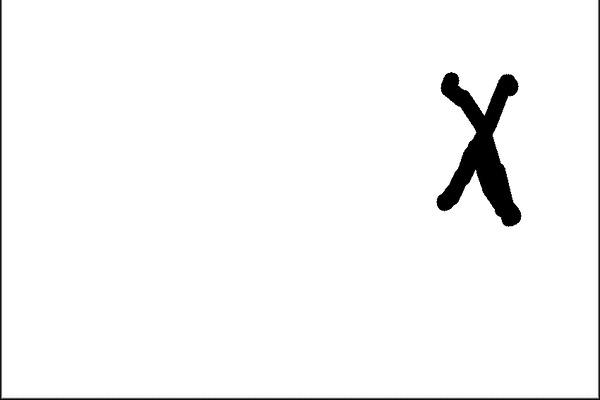X: (418, 45, 548, 232)
